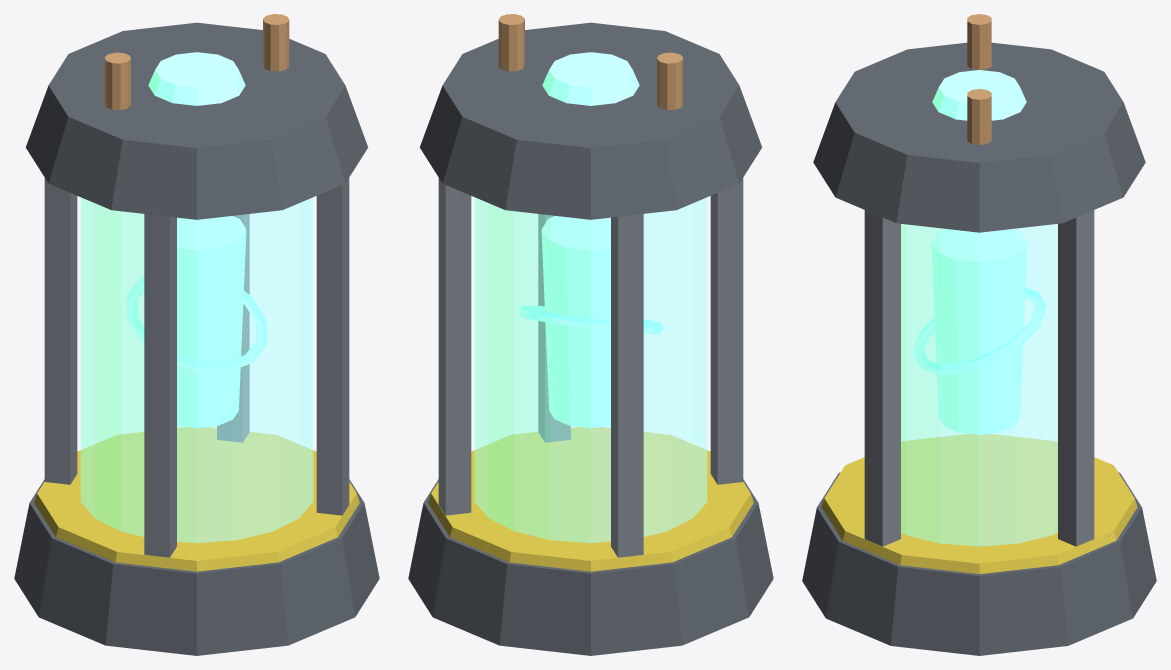
The model's file is prop_cryo_pod.glb.
The picture shows the model from 3 angles, left to right: view 1: azimuth 30°, elevation 25°; view 2: azimuth 150°, elevation 25°; view 3: azimuth 270°, elevation 25°; orthographic projection. The views are drawn at different scales.
Parts seen in each view (by area): view 1: PropCryoPod; view 2: PropCryoPod; view 3: PropCryoPod.
Boxes of the visible parts, x1,y1,x2,y2 form: PropCryoPod: (14, 14, 379, 655); PropCryoPod: (408, 14, 773, 655); PropCryoPod: (802, 14, 1156, 655).
Size of the model in its own units: 1.92 by 3.13 by 1.92.
